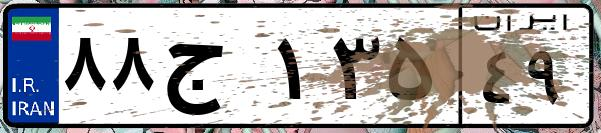1: (270, 28, 330, 110)
3: (330, 28, 385, 110)
4: (475, 38, 525, 113)
5: (385, 28, 445, 110)
8: (57, 26, 110, 100), (110, 28, 158, 98)
9: (525, 38, 570, 115)
ج: (158, 20, 270, 120)
